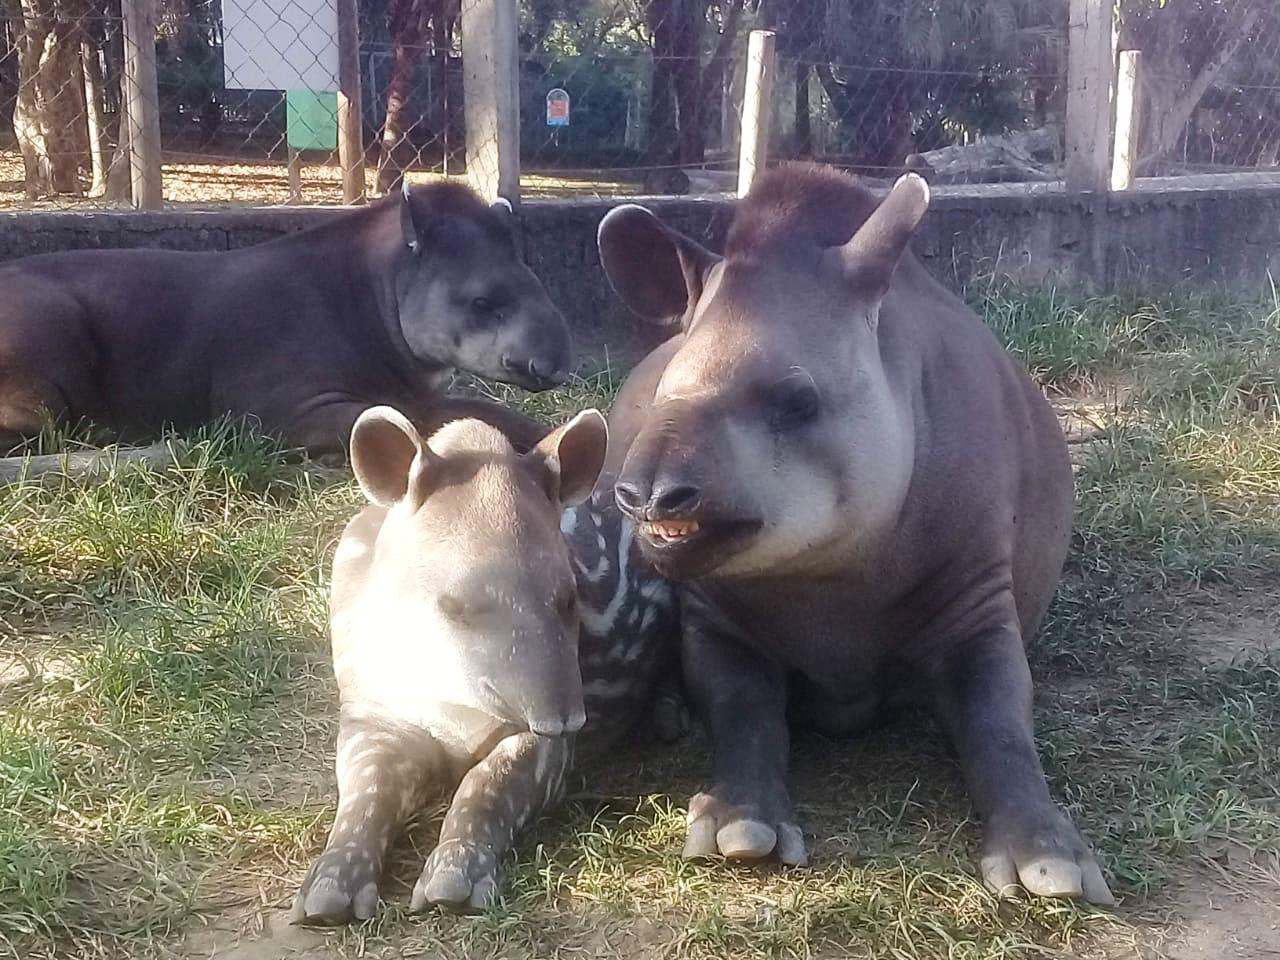Anta: (594, 134, 1170, 937), (278, 402, 622, 931), (9, 168, 583, 434)
